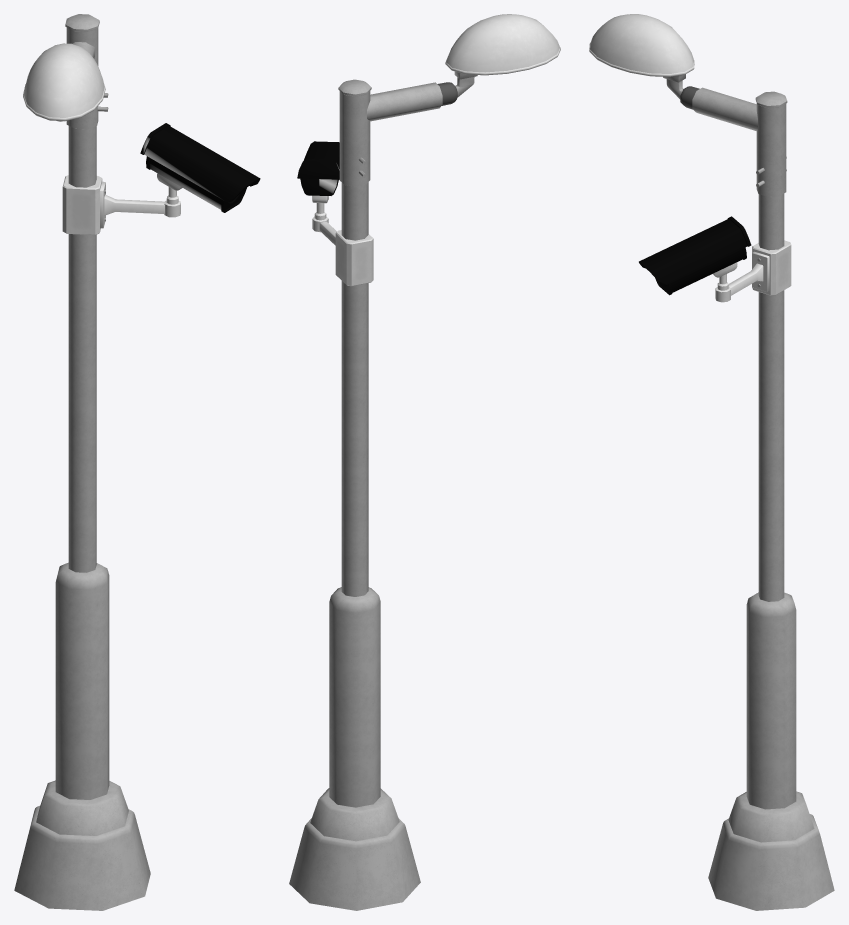
The model's file is streetlamp3.glb.
3 renders of one model, left to right at view 1: azimuth 30°, elevation 25°; view 2: azimuth 150°, elevation 25°; view 3: azimuth 270°, elevation 25°, orthographic. The views are drawn at different scales.
Parts seen in each view (by area): view 1: streetlamp_a_01, cctv_b_01, cctv_a_01; view 2: streetlamp_a_01, cctv_a_01, cctv_b_01; view 3: streetlamp_a_01, cctv_b_01, cctv_a_01.
Part boxes in pixels (<box>): streetlamp_a_01: <box>14,14,150,910</box>; cctv_b_01: <box>140,123,260,212</box>; cctv_a_01: <box>62,175,180,234</box>; streetlamp_a_01: <box>289,14,560,910</box>; cctv_a_01: <box>312,203,373,286</box>; cctv_b_01: <box>297,141,339,203</box>; streetlamp_a_01: <box>589,14,834,910</box>; cctv_b_01: <box>639,216,751,295</box>; cctv_a_01: <box>715,240,791,302</box>.
Bounding box in the file's own units: 1.4 × 4.89 × 1.32.
1 material, 1 textured.
